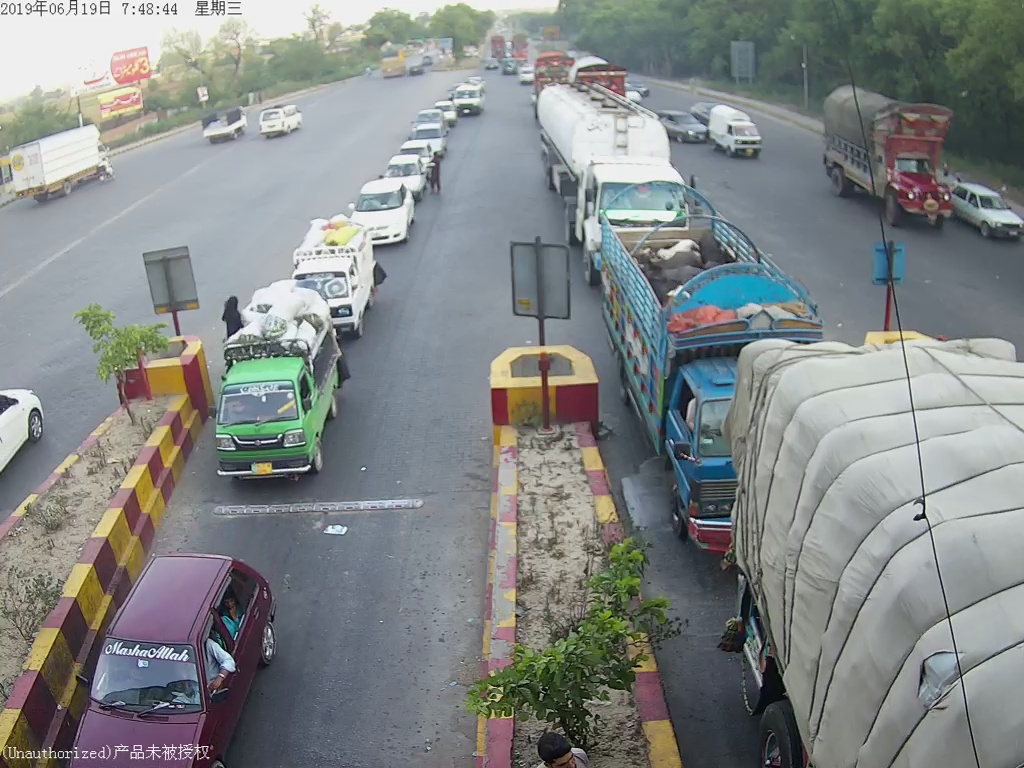Cat-1: (207, 288, 340, 482), (296, 232, 380, 336), (347, 176, 412, 241)
Cat-2: (602, 186, 823, 559)
Cat-4: (822, 81, 951, 226)
Cat-5: (537, 77, 687, 268)
